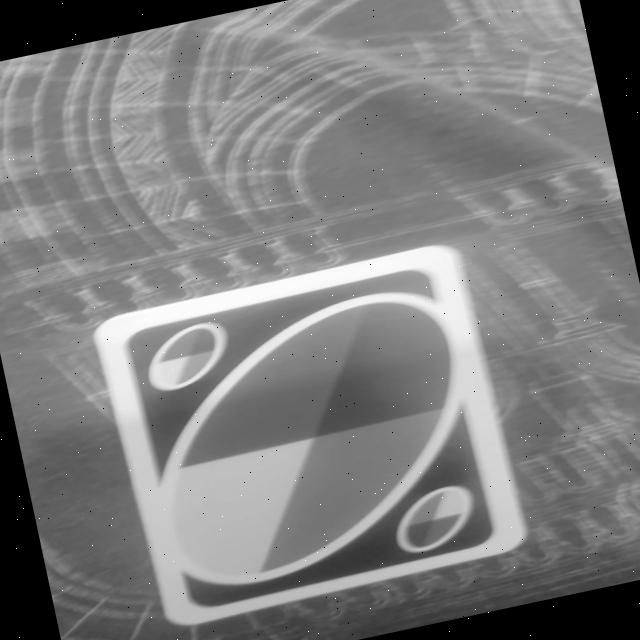wild_card: (89, 237, 530, 632)
